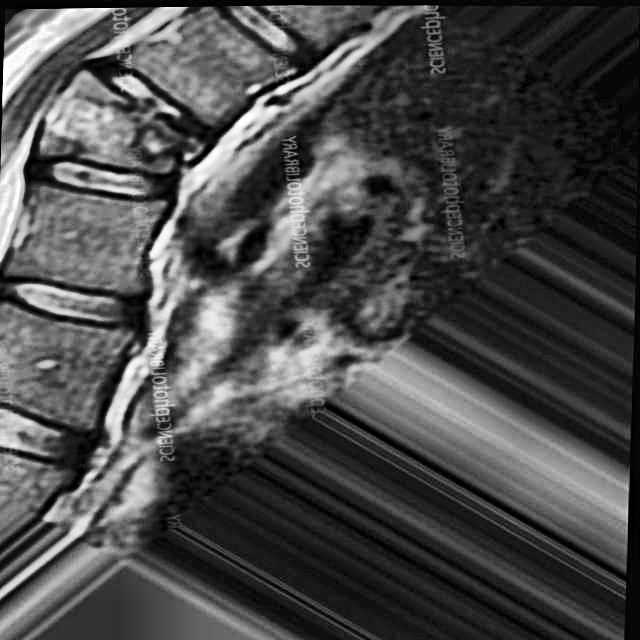Comminuted: (31, 46, 215, 200)
